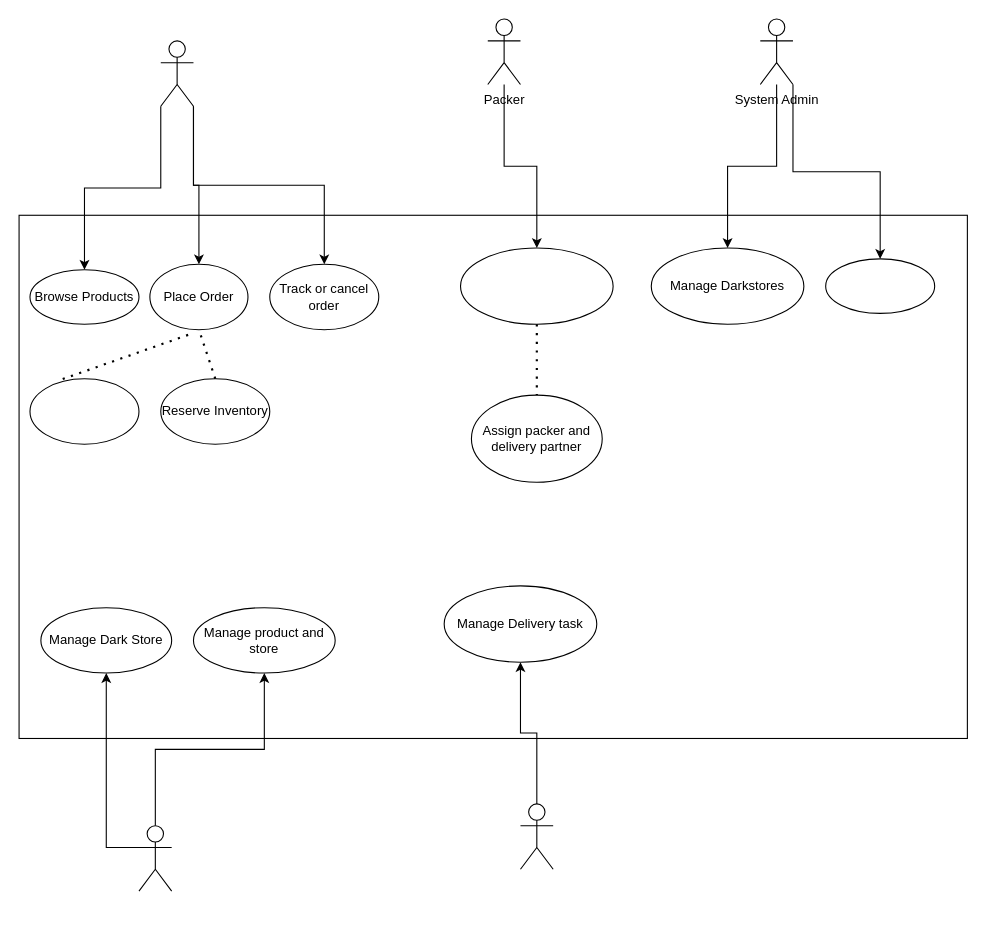
The diagram is 986 pixels wide and 949 high, and some of its shapes have lost their labels. Each missing label, with the centre of its shape:
"Assign eligible Dark Store" goes at (84,411).
"Customer" goes at (176,73).
"Dark Store Admin" goes at (155,858).
"delivery partner" goes at (536,836).
"Manage users" goes at (880,285).
"process packing task" goes at (536,285).
